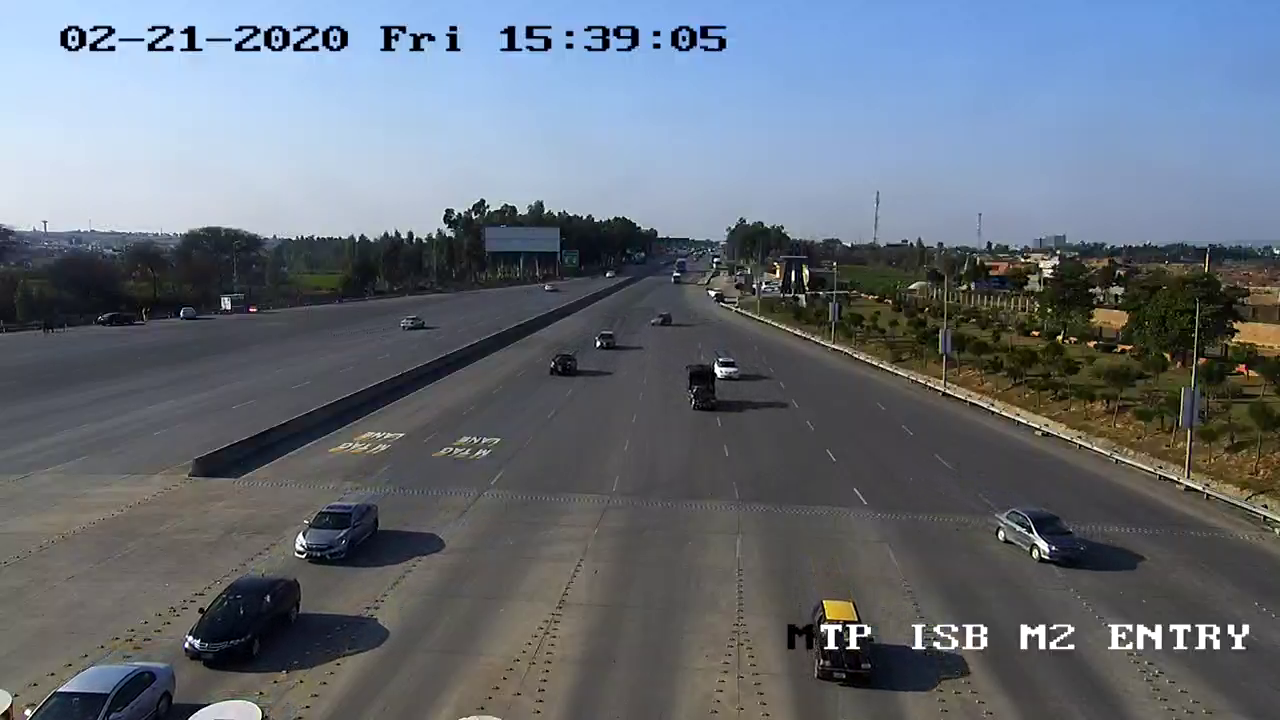f1: (172, 568, 312, 672), (282, 495, 397, 575), (979, 498, 1097, 575)
